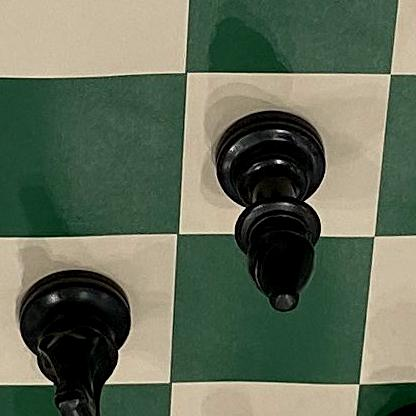black-bishop: (211, 110, 331, 318)
black-knight: (0, 266, 144, 416)
